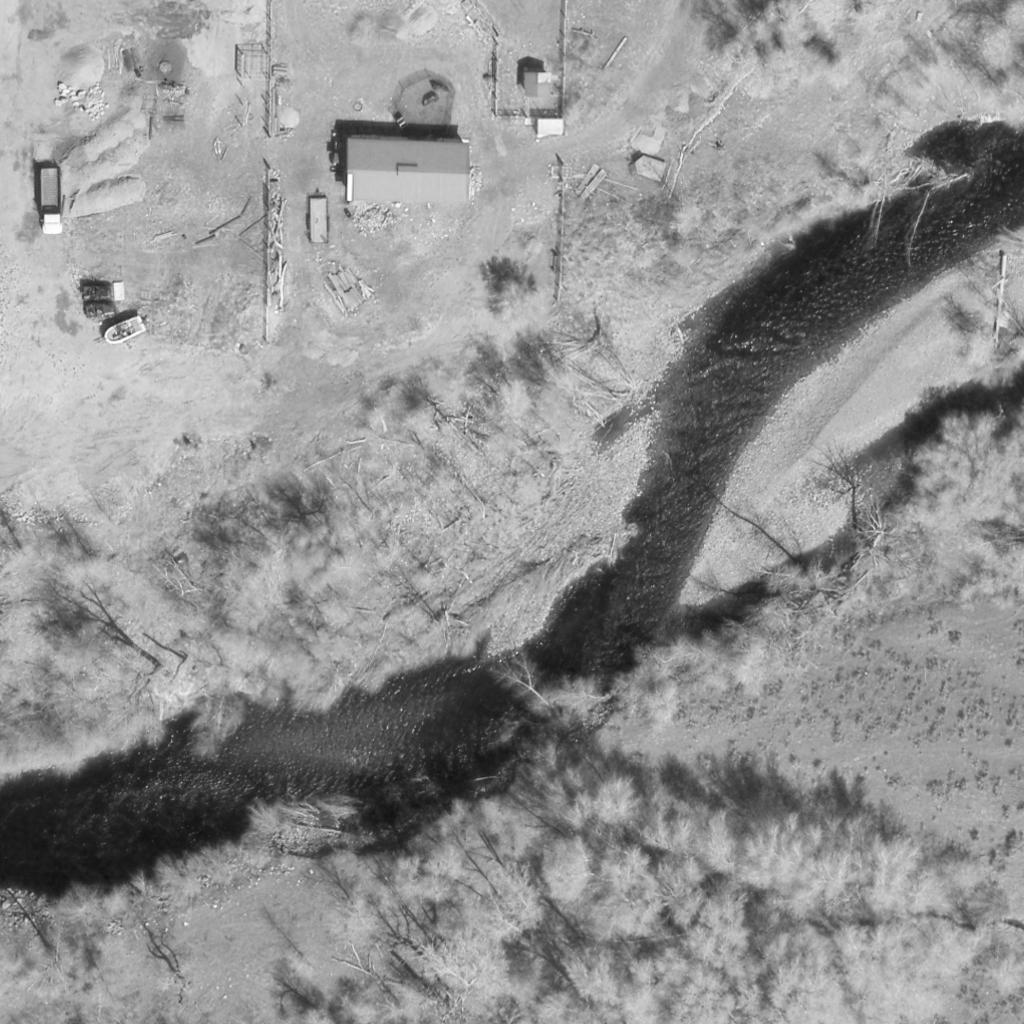vehicle: (40, 165, 66, 235), (101, 318, 147, 348), (85, 300, 119, 322), (80, 283, 116, 301)
